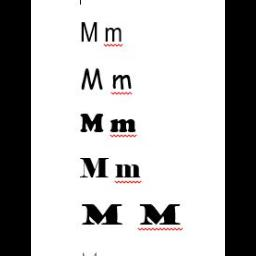m: (137, 198, 185, 232), (79, 201, 125, 227), (70, 62, 104, 94), (76, 154, 110, 182), (109, 67, 139, 97), (74, 109, 106, 135), (114, 160, 144, 184), (77, 16, 99, 48), (110, 114, 138, 136), (102, 24, 124, 50)
